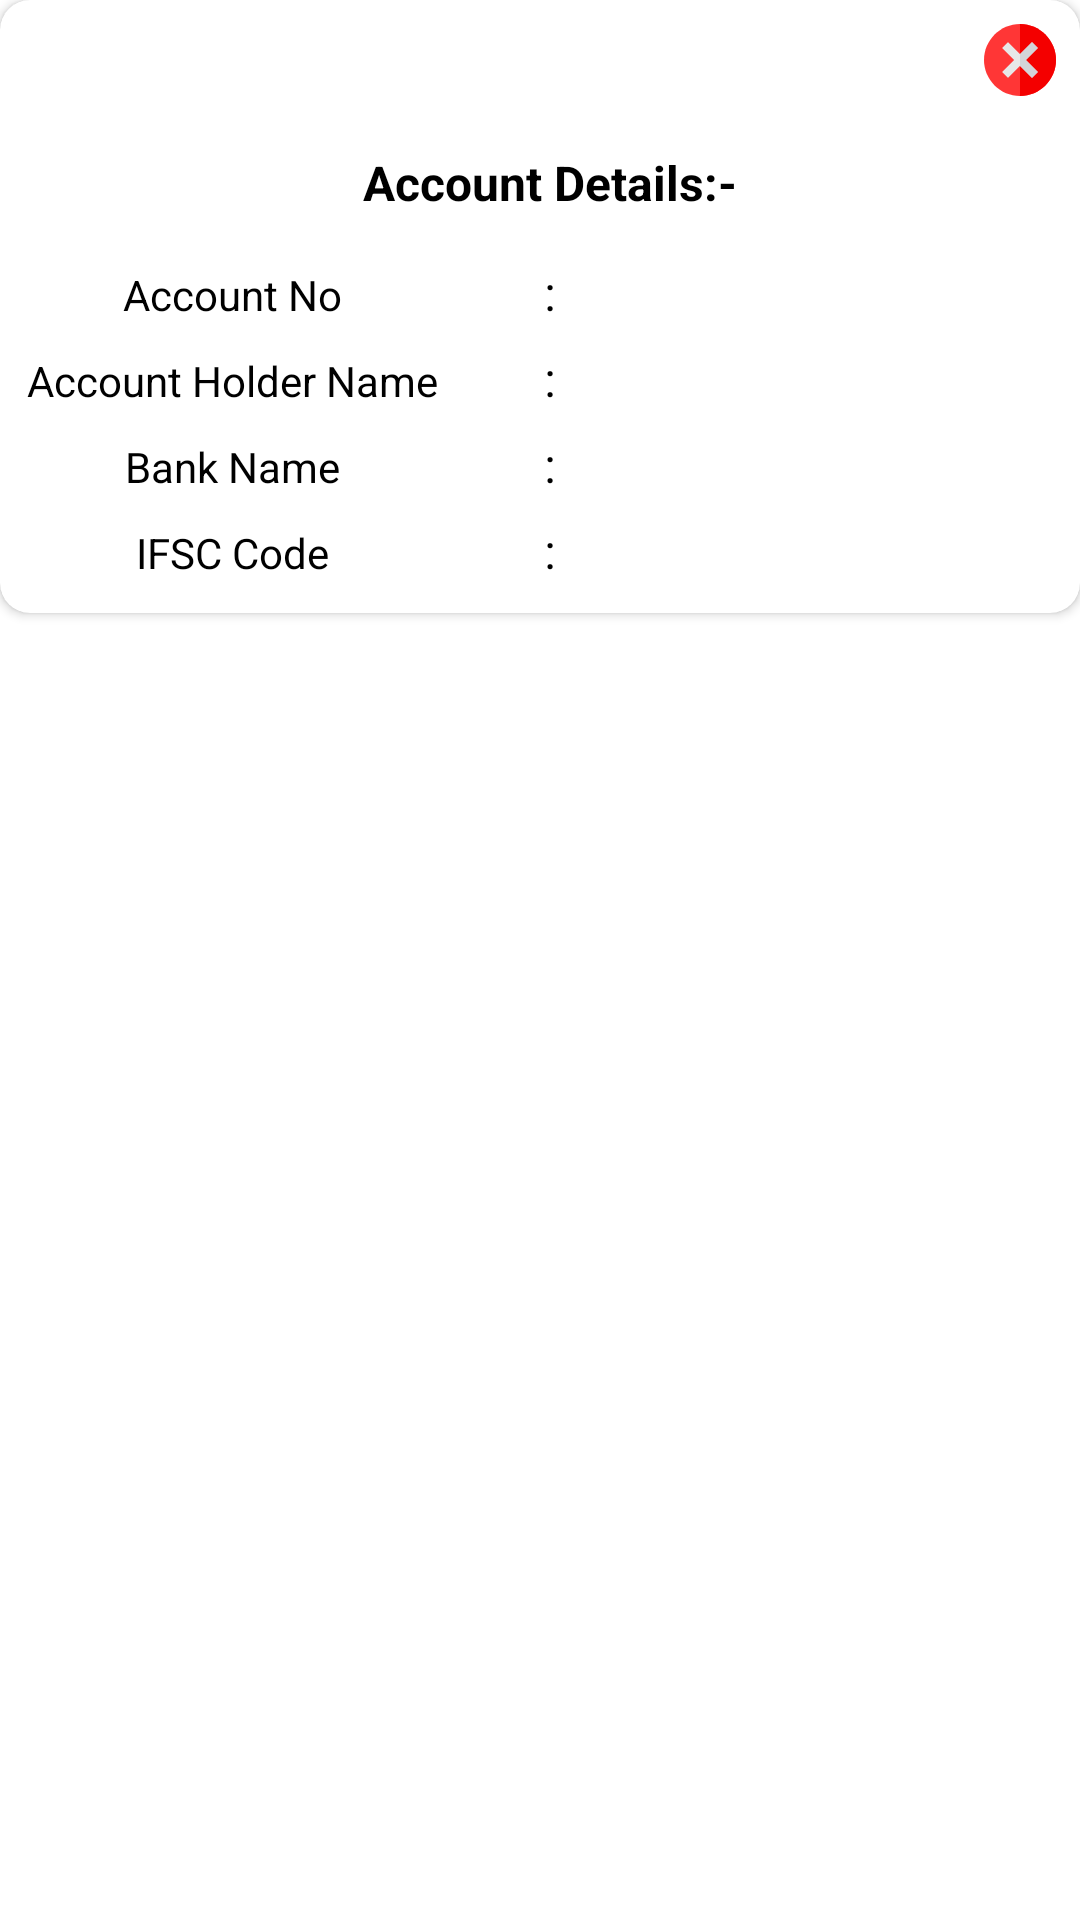

Icon click points for this 1080*1920 phone screenshot, format (x,y):
failureicon: (1032,48)
